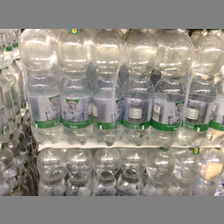water: (178, 30, 224, 144), (151, 30, 194, 150), (19, 29, 62, 145), (56, 29, 92, 144), (92, 29, 125, 146), (123, 30, 156, 145)
